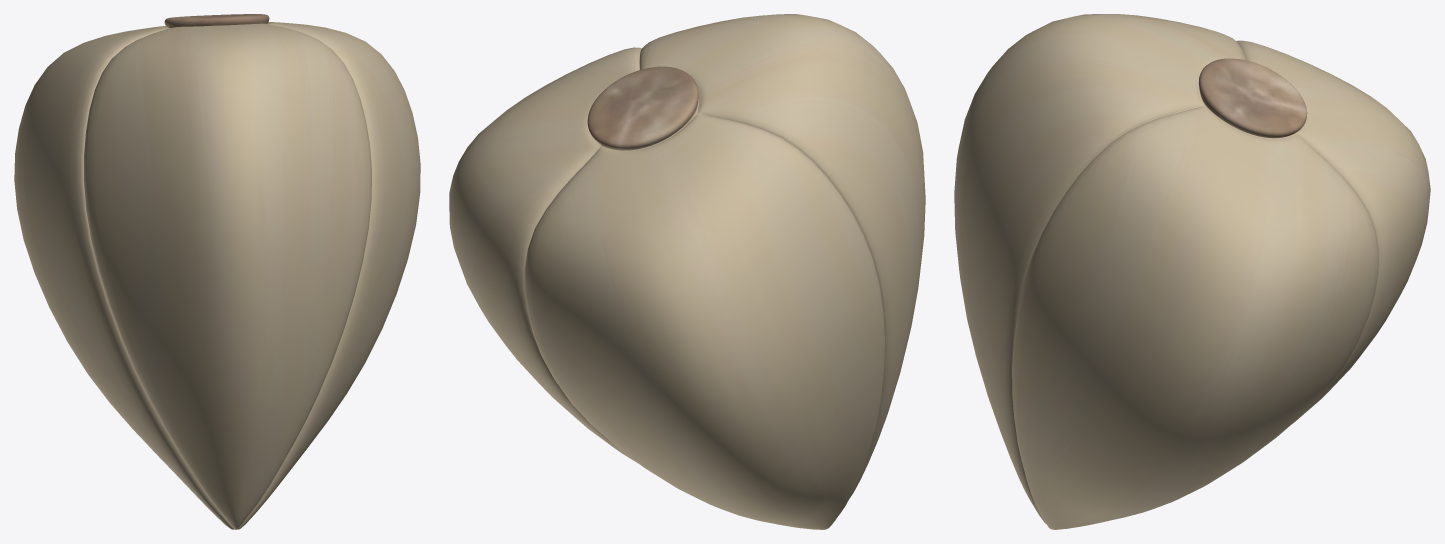
The model's file is GrainBuckwheat042.obj.
3 renders of one model, left to right at view 1: azimuth 30°, elevation 25°; view 2: azimuth 150°, elevation 25°; view 3: azimuth 270°, elevation 25°, orthographic. The views are drawn at different scales.
Parts seen in each view (by area): view 1: GrainBuckwheat042; view 2: GrainBuckwheat042; view 3: GrainBuckwheat042.
Boxes of the visible parts, bbox=[...] form: GrainBuckwheat042: bbox=[14, 14, 420, 529]; GrainBuckwheat042: bbox=[449, 14, 925, 529]; GrainBuckwheat042: bbox=[954, 14, 1430, 529].
Bounding box in the file's own units: 0.0251 × 0.0317 × 0.0267.
1 material, 1 textured.
